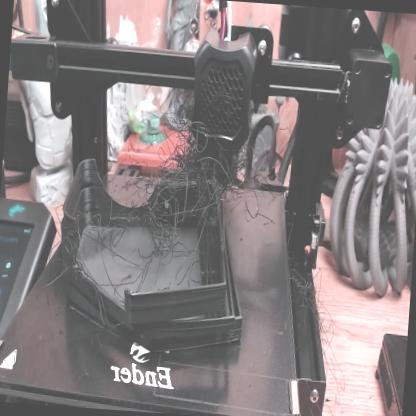fail: (111, 118, 237, 279)
